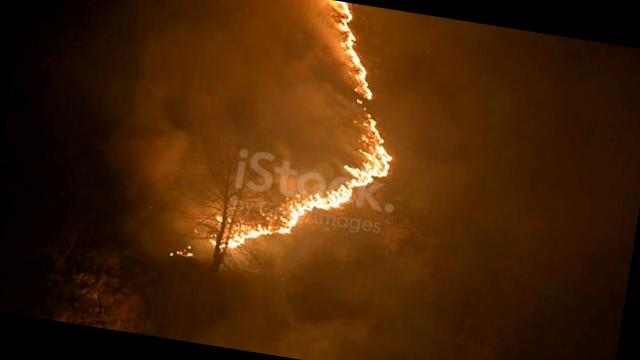fire: (201, 177, 320, 258), (301, 2, 391, 102), (322, 110, 401, 218)
